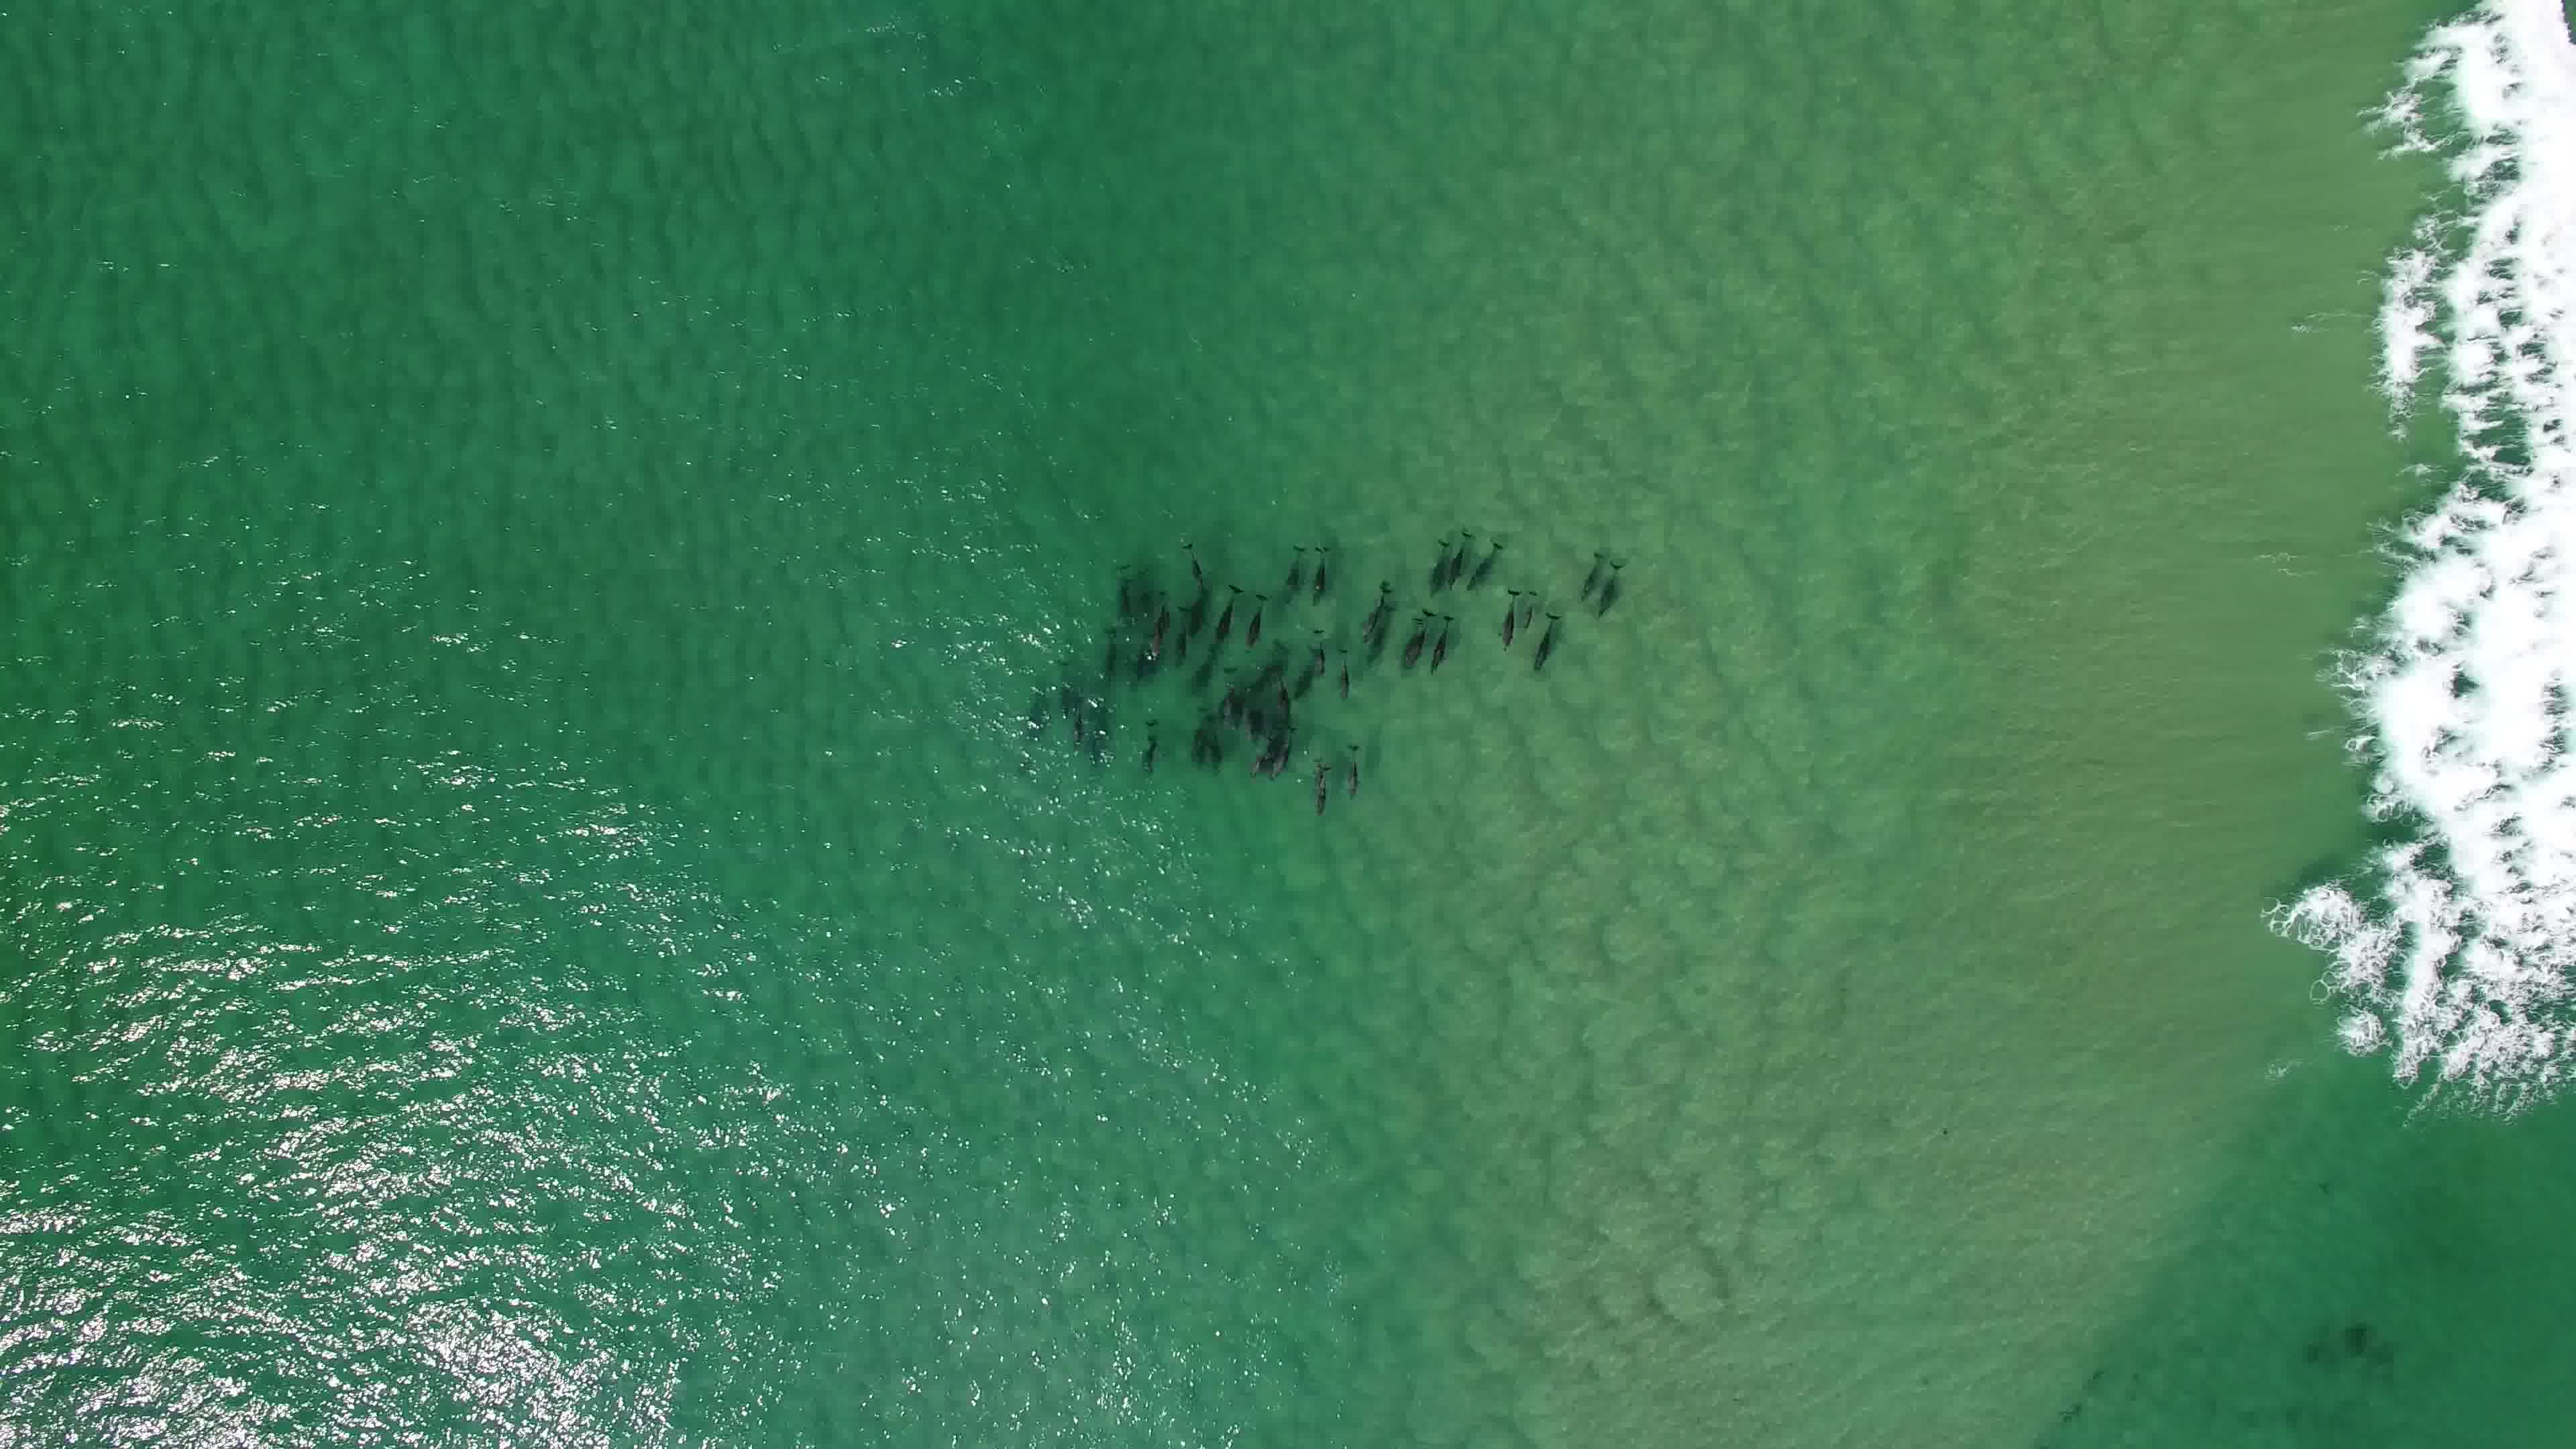dolphin: (1591, 550, 1637, 633), (1417, 605, 1463, 685), (1525, 600, 1566, 683), (1056, 678, 1097, 757), (1355, 571, 1394, 655), (1387, 602, 1435, 667), (1467, 520, 1506, 600), (1338, 736, 1376, 812), (1274, 527, 1313, 603), (1263, 718, 1302, 791), (1261, 669, 1306, 732), (1444, 518, 1477, 600), (1491, 579, 1529, 651), (1238, 580, 1274, 655), (1304, 747, 1336, 824), (1136, 610, 1175, 672), (1210, 573, 1244, 644), (1566, 545, 1606, 603), (1302, 538, 1339, 602), (1175, 533, 1214, 593), (1419, 525, 1449, 602), (1223, 688, 1260, 743), (1511, 586, 1548, 637), (1304, 626, 1334, 688), (1185, 704, 1210, 775), (1134, 717, 1169, 761), (1205, 709, 1226, 780), (1330, 640, 1353, 702)
